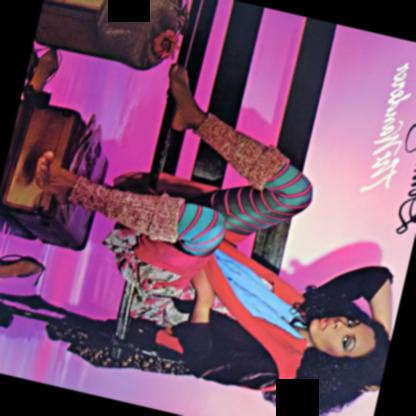suitcase: (0, 103, 110, 249), (35, 0, 104, 59)
